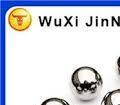ironball: (69, 65, 102, 99), (102, 86, 119, 104), (36, 97, 76, 104), (116, 50, 119, 82)
